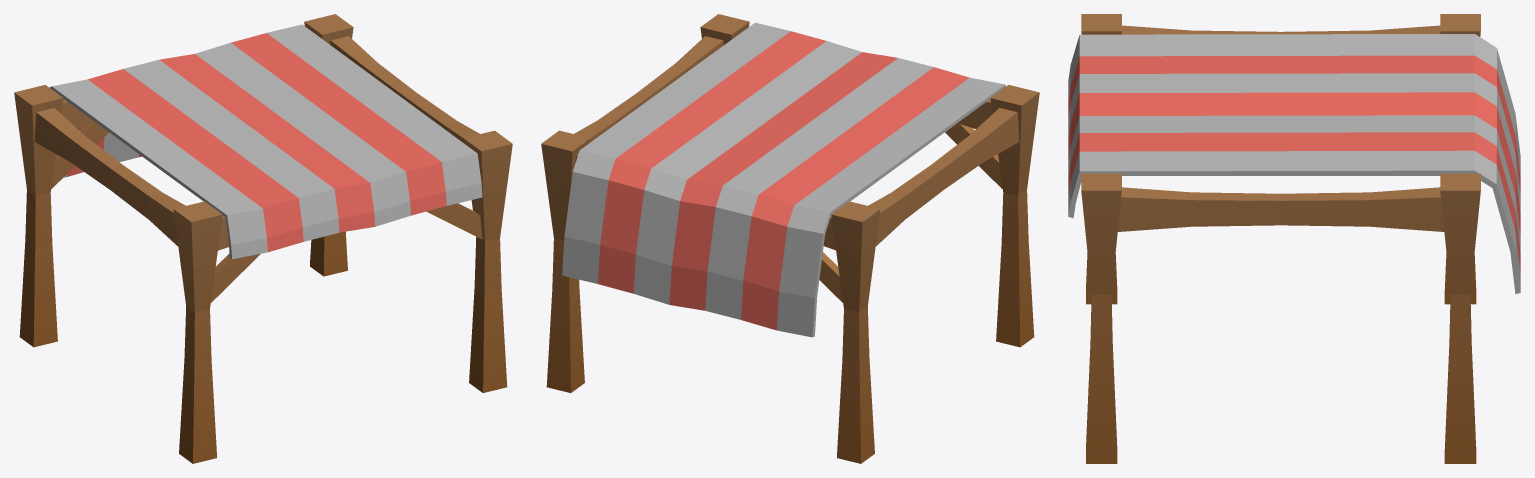
The model's file is MarketplaceTop02.fbx.
3 views of the same model, side by side, from view 1: azimuth 30°, elevation 25°; view 2: azimuth 150°, elevation 25°; view 3: azimuth 270°, elevation 25° (orthographic). The views are drawn at different scales.
Visible parts, largest first — view 1: Marketplace.Top02; view 2: Marketplace.Top02; view 3: Marketplace.Top02.
Part boxes in pixels (<box>): Marketplace.Top02: <box>14,14,512,463</box>; Marketplace.Top02: <box>541,14,1039,463</box>; Marketplace.Top02: <box>1068,14,1520,463</box>.
Bounding box in the file's own units: 2.98 × 3.22 × 2.17.
